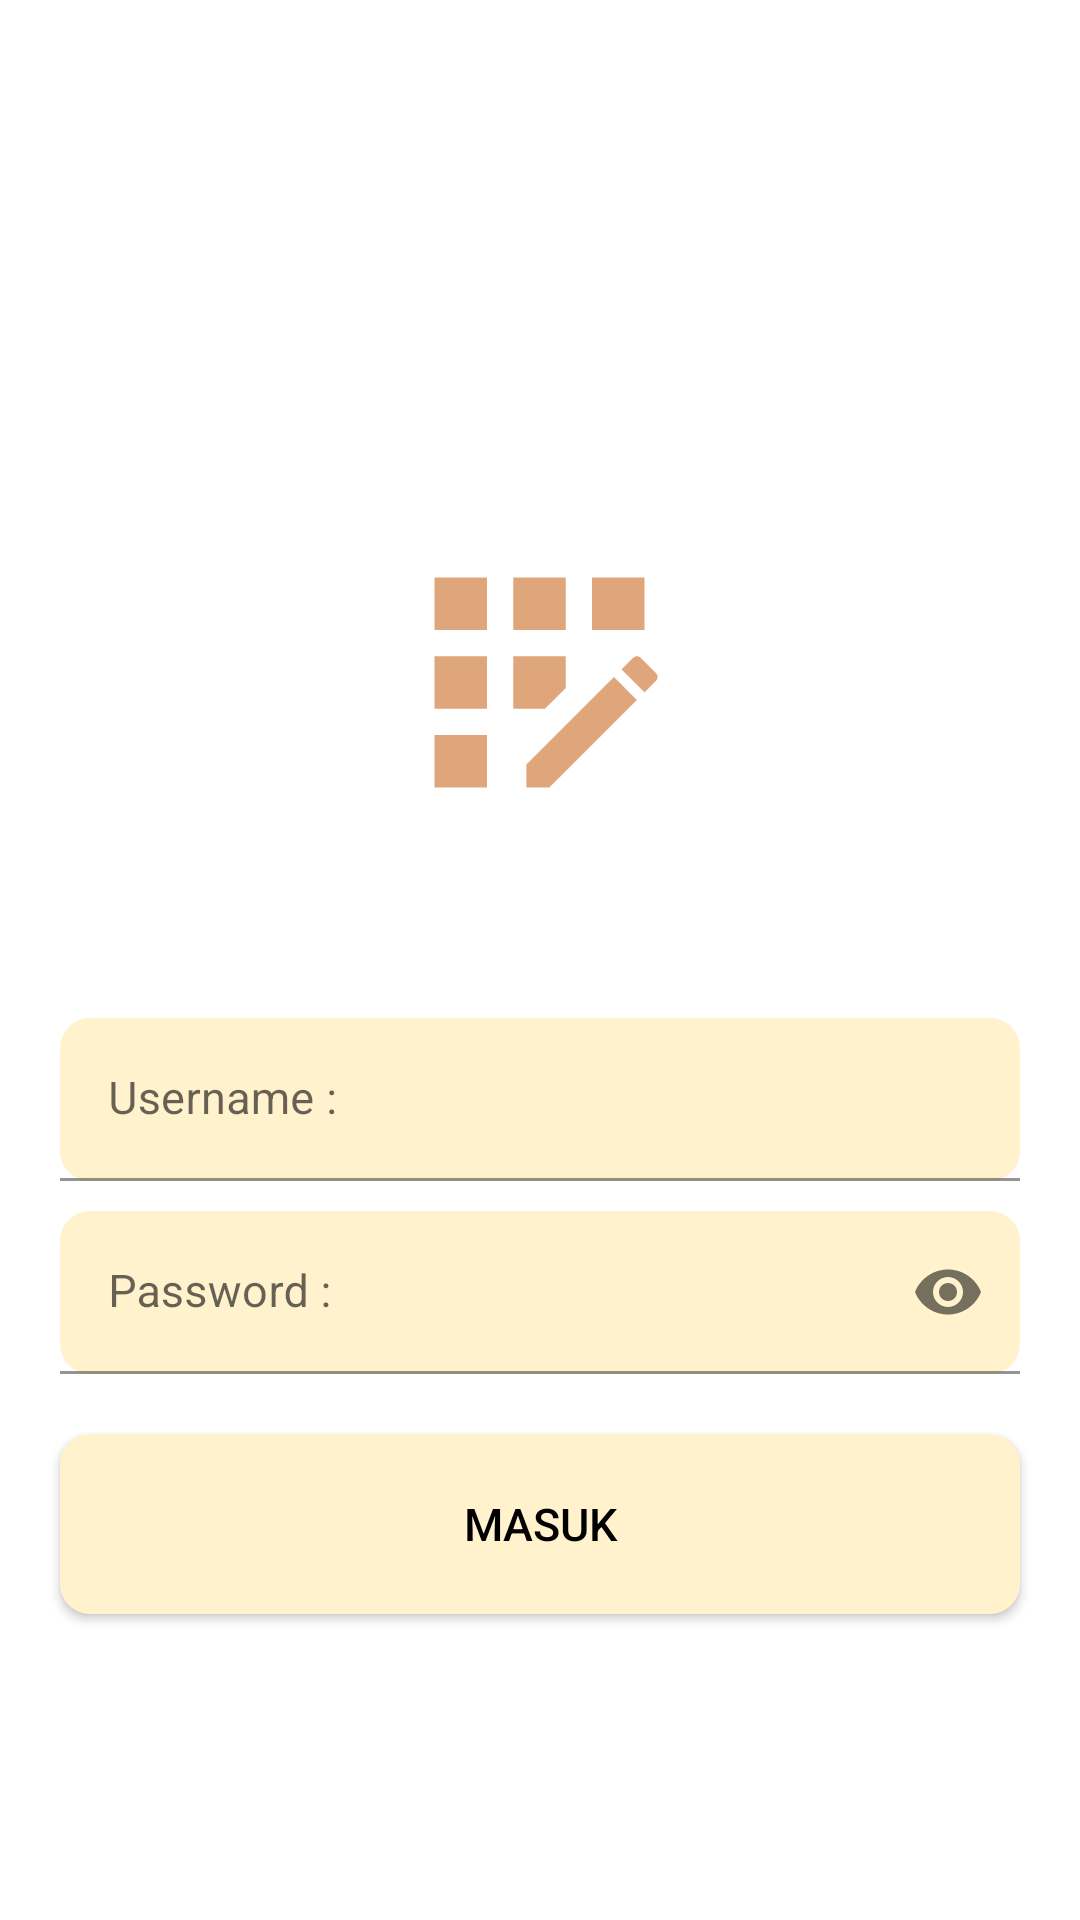

Icon bounding boxes for this 1080*1920 phone screenshot, format {"x1": x1, "y1": y1, "x2": x2, "y2": y2}:
registration: {"x1": 434, "y1": 577, "x2": 658, "y2": 788}
